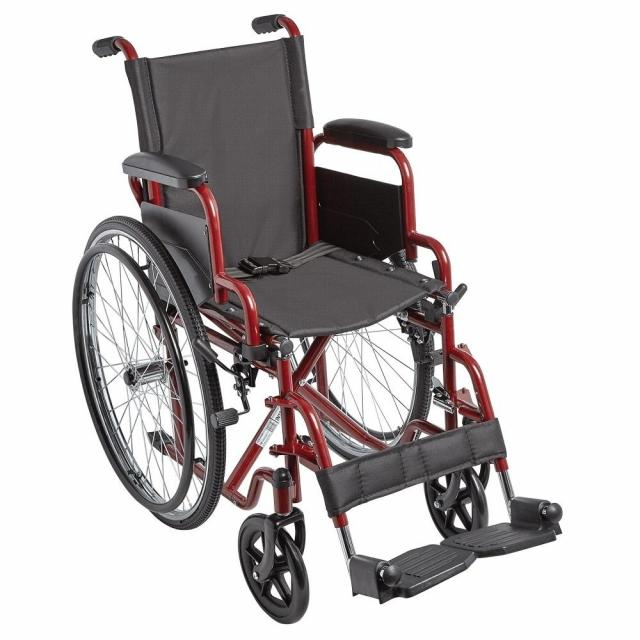wheelchair: (48, 17, 570, 634)
